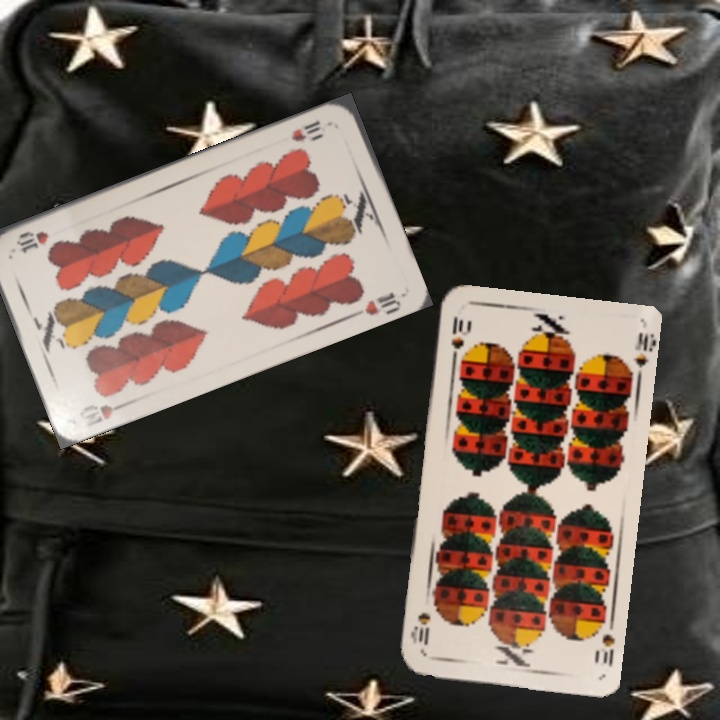H10: (75, 396, 133, 430), (287, 116, 323, 145)
S10: (447, 312, 467, 365), (598, 630, 617, 669)
